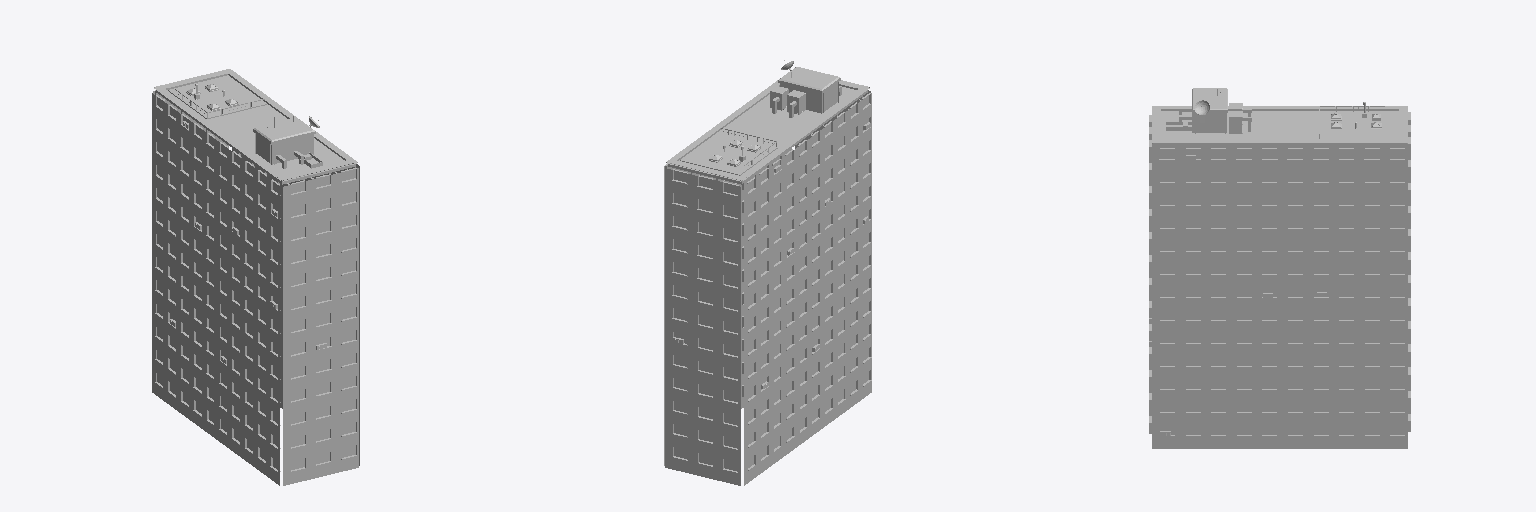
The model's file is u2NWBuild8.obj.
The picture shows the model from 3 angles: view 1: azimuth 30°, elevation 25°; view 2: azimuth 150°, elevation 25°; view 3: azimuth 270°, elevation 25°; orthographic projection.
Visible parts, largest first — view 1: mass roof __Comp1__5, mass sides floors window regulaWindow __Repeat2__2 __Repeat1__9 , mass sides floors window regulaWindow __Repeat2__2 __Repeat1__12, mass sides floors window regulaWindow __Repeat2__1 __Repeat1__12, mass sides floors __Repeat2__0 window regulaWindow __Repeat1__9 , mass sides floors __Repeat2__0 window regulaWindow __Repeat1__12, mass sides floors window regulaWindow __Repeat2__1 __Repeat1__9 , mass sides floors window regulaWindow __Repeat2__2 __Repeat1__3 , mass sides floors window regulaWindow __Repeat2__2 __Repeat1__5 , mass sides floors window regulaWindow __Repeat2__2 __Repeat1__8 , mass sides floors window regulaWindow __Repeat2__2 __Repeat1__4 , mass sides floors window regulaWindow __Repeat2__2 __Repeat1__10 (+28 smaller); view 2: mass roof __Comp1__5, mass sides __Comp1__0 floors __Repeat2__0 window regulaWindow __, mass sides __Comp1__0 floors window regulaWindow __Repeat2__1 __, mass sides __Comp1__0 floors window regulaWindow __Repeat2__2 __, mass sides __Comp1__0 __Repeat1__0 floors window regulaWindow __, mass sides __Comp1__0 __Repeat1__0 floors __Repeat2__0 window re, mass sides __Comp1__0 floors window __Repeat2__2 __Repeat1__5 ai; view 3: mass roof __Comp1__5, mass sides floors window regulaWindow __Repeat1__1 __Comp1__1 __, mass sides floors window regulaWindow __Repeat1__2 __Comp1__1 __, mass sides floors window regulaWindow __Repeat1__3 __Comp1__1 __, mass sides floors window regulaWindow __Repeat1__4 __Comp1__1 __, mass sides floors window regulaWindow __Repeat1__5 __Comp1__1 __, mass sides floors window regulaWindow __Repeat1__7 __Comp1__1 __, mass sides floors window regulaWindow __Repeat1__8 __Comp1__1 __, mass sides floors window regulaWindow __Repeat1__9 __Comp1__1 __, mass sides floors window regulaWindow __Repeat1__10 __Comp1__1 _, mass sides floors window regulaWindow __Repeat1__11 __Comp1__1 _, mass sides floors window regulaWindow __Repeat1__12 __Comp1__1 _ (+28 smaller).
Boxes of the visible parts, box(x1,y1,x2,y2) form: mass roof __Comp1__5: box(154, 69, 357, 184); mass sides floors window regulaWindow __Repeat2__2 __Repeat1__9 : box(241, 166, 308, 278); mass sides floors window regulaWindow __Repeat2__2 __Repeat1__12: box(241, 158, 308, 209); mass sides floors window regulaWindow __Repeat2__1 __Repeat1__12: box(254, 168, 333, 202); mass sides floors __Repeat2__0 window regulaWindow __Repeat1__9 : box(232, 148, 358, 277); mass sides floors __Repeat2__0 window regulaWindow __Repeat1__12: box(267, 168, 358, 208); mass sides floors window regulaWindow __Repeat2__1 __Repeat1__9 : box(245, 158, 333, 271); mass sides floors window regulaWindow __Repeat2__2 __Repeat1__3 : box(241, 366, 308, 416); mass sides floors window regulaWindow __Repeat2__2 __Repeat1__5 : box(241, 320, 308, 370); mass sides floors window regulaWindow __Repeat2__2 __Repeat1__8 : box(241, 250, 308, 301); mass sides floors window regulaWindow __Repeat2__2 __Repeat1__4 : box(241, 343, 308, 393); mass sides floors window regulaWindow __Repeat2__2 __Repeat1__10: box(241, 204, 308, 255); mass roof __Comp1__5: box(666, 60, 869, 184); mass sides __Comp1__0 floors __Repeat2__0 window regulaWindow __: box(715, 180, 740, 462); mass sides __Comp1__0 floors window regulaWindow __Repeat2__1 __: box(690, 174, 714, 456); mass sides __Comp1__0 floors window regulaWindow __Repeat2__2 __: box(665, 168, 689, 450); mass sides __Comp1__0 __Repeat1__0 floors window regulaWindow __: box(665, 445, 714, 479); mass sides __Comp1__0 __Repeat1__0 floors __Repeat2__0 window re: box(715, 457, 740, 485); mass sides __Comp1__0 floors window __Repeat2__2 __Repeat1__5 ai: box(665, 330, 689, 357); mass roof __Comp1__5: box(1152, 88, 1407, 146); mass sides floors window regulaWindow __Repeat1__1 __Comp1__1 __: box(1152, 403, 1330, 425); mass sides floors window regulaWindow __Repeat1__2 __Comp1__1 __: box(1152, 380, 1330, 402); mass sides floors window regulaWindow __Repeat1__3 __Comp1__1 __: box(1152, 357, 1330, 379); mass sides floors window regulaWindow __Repeat1__4 __Comp1__1 __: box(1152, 334, 1330, 356); mass sides floors window regulaWindow __Repeat1__5 __Comp1__1 __: box(1152, 311, 1330, 333); mass sides floors window regulaWindow __Repeat1__7 __Comp1__1 __: box(1152, 264, 1330, 286); mass sides floors window regulaWindow __Repeat1__8 __Comp1__1 __: box(1152, 241, 1330, 263); mass sides floors window regulaWindow __Repeat1__9 __Comp1__1 __: box(1152, 218, 1330, 240); mass sides floors window regulaWindow __Repeat1__10 __Comp1__1 _: box(1152, 195, 1330, 217); mass sides floors window regulaWindow __Repeat1__11 __Comp1__1 _: box(1152, 172, 1330, 194); mass sides floors window regulaWindow __Repeat1__12 __Comp1__1 _: box(1152, 148, 1330, 171).
Bounding box in the file's own units: 2658 × 10691 × 7356.